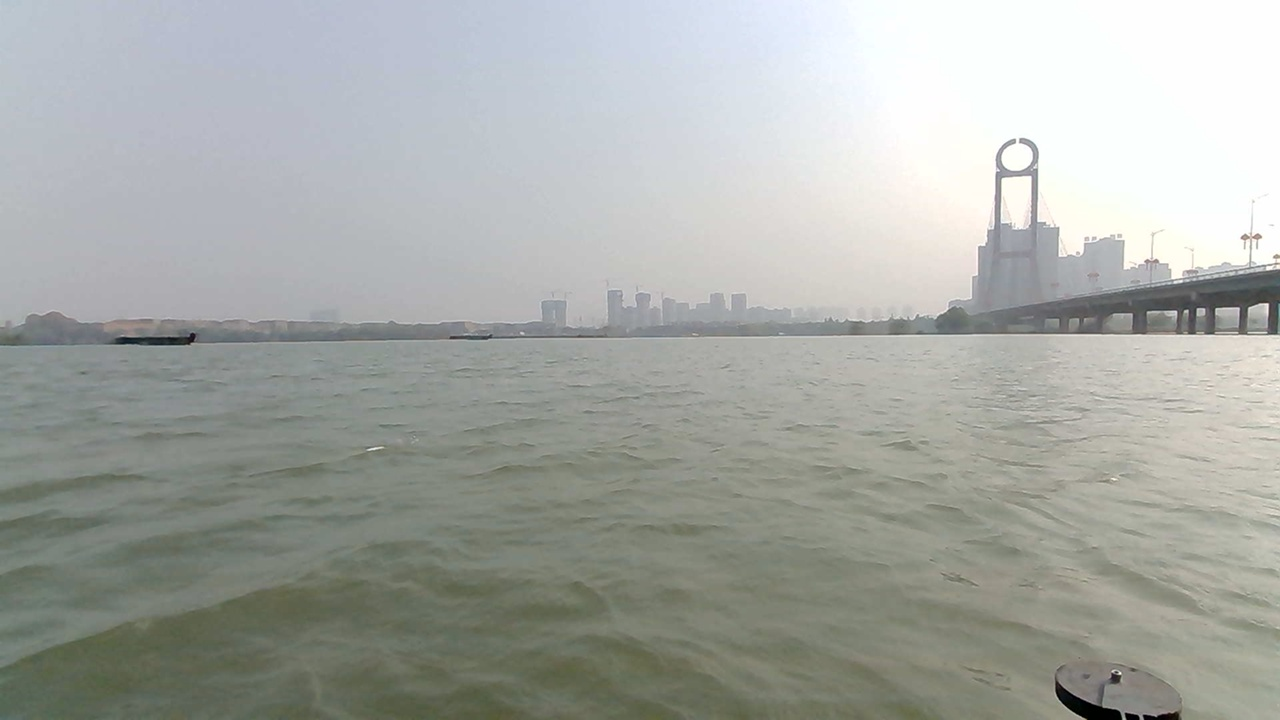bottle: (342, 424, 423, 469)
